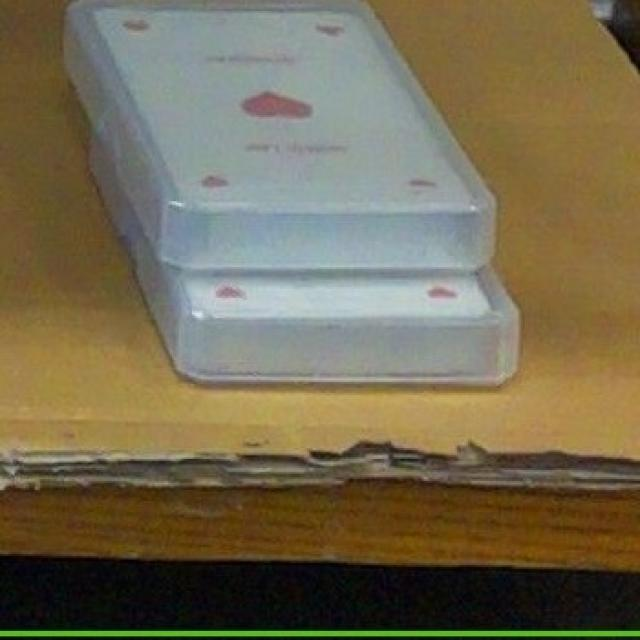Jasskarte: (64, 0, 492, 271), (91, 137, 516, 384)
